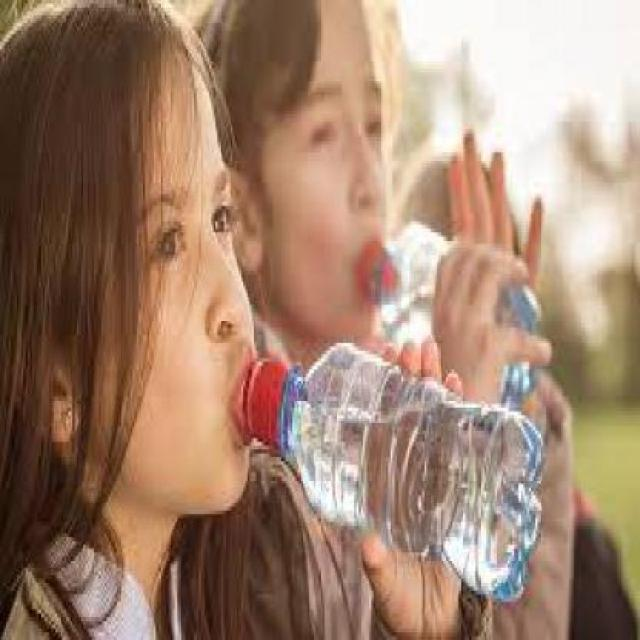Drinking: (250, 313, 538, 602), (335, 165, 587, 398)
